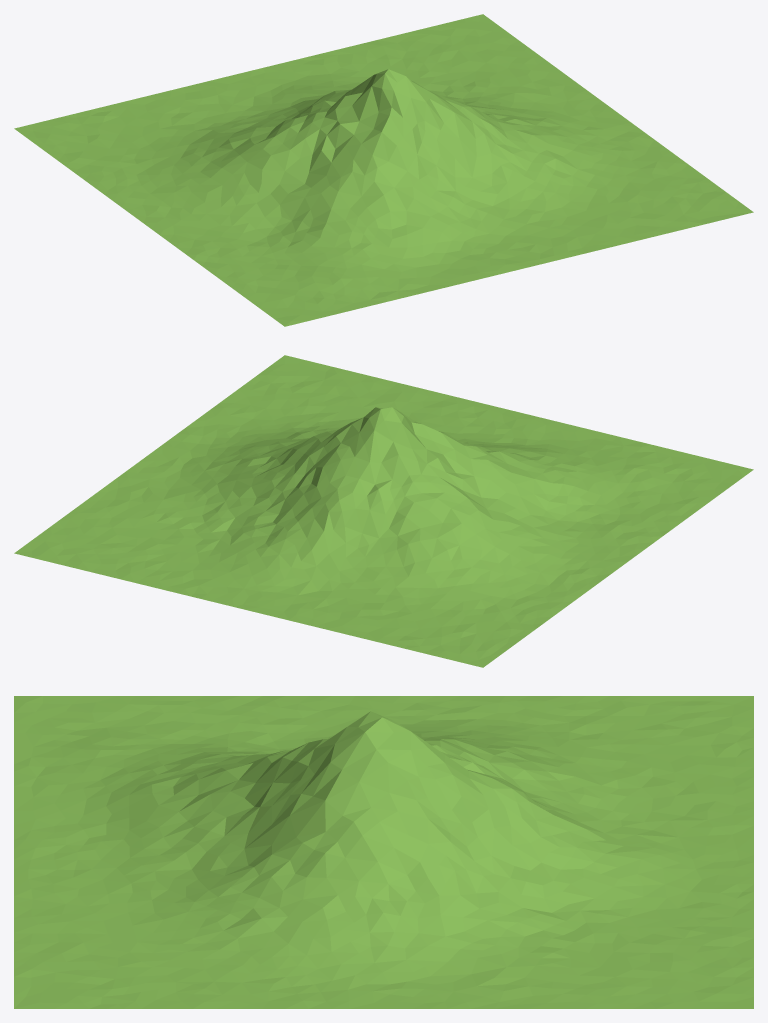
File: MT_Terrain_L_a_44_LOD.fbx
3 views of the same model, one above another, from view 1: azimuth 30°, elevation 25°; view 2: azimuth 150°, elevation 25°; view 3: azimuth 270°, elevation 25° (orthographic). The views are drawn at different scales.
Parts seen in each view (by area): view 1: MT_Terrain_L_a_44_LOD0; view 2: MT_Terrain_L_a_44_LOD0; view 3: MT_Terrain_L_a_44_LOD0.
Boxes of the visible parts, <box> form: MT_Terrain_L_a_44_LOD0: <box>14,14,753,326</box>; MT_Terrain_L_a_44_LOD0: <box>14,355,753,667</box>; MT_Terrain_L_a_44_LOD0: <box>14,696,753,1008</box>.
Size of what is drawn, in the model's own units: 10000 by 2089 by 10000.
